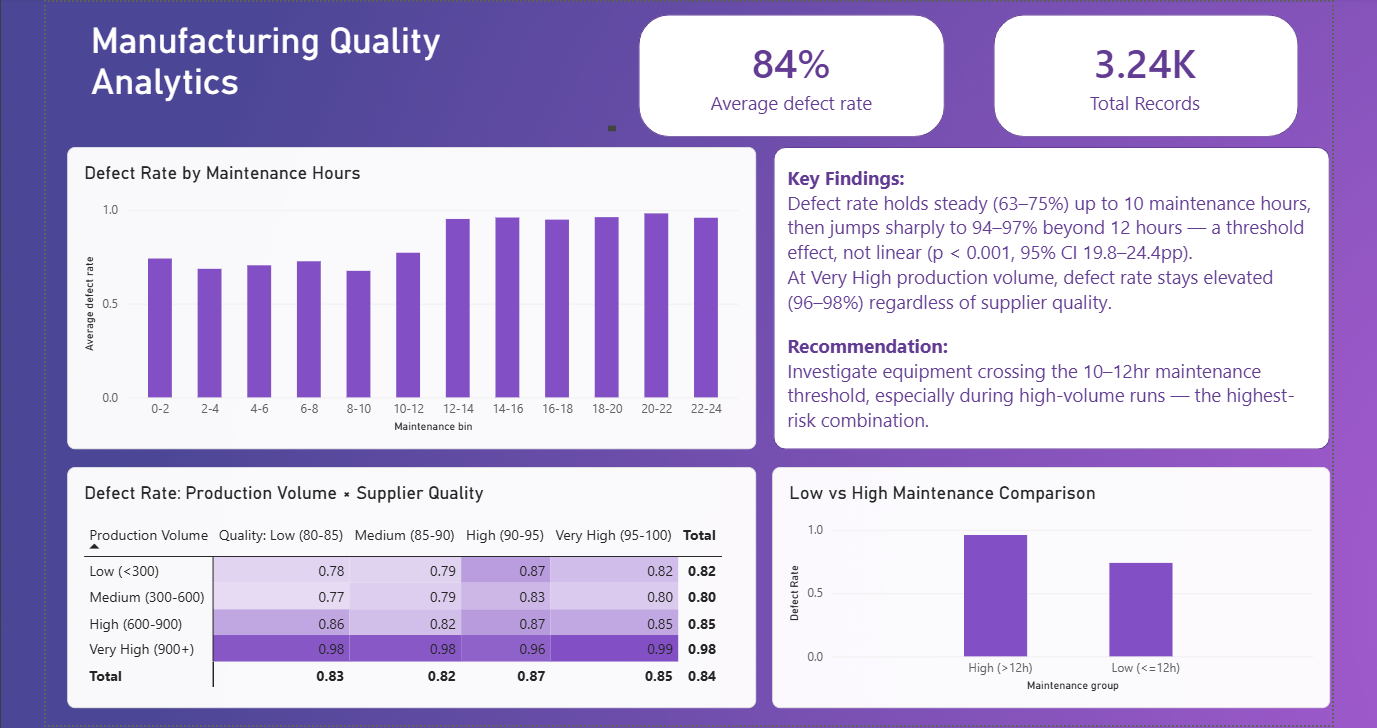

Layout of this report page (visuals, bound fields, positions):
{"tool":"powerbi","page":{"name":"Page 1","canvas":[1280,720],"ordinal":0},"visuals":[{"type":"shape","box":[942.9,12.4,303.5,121.9],"z":1500},{"type":"cardVisual","title":"total records","fields":{"Data":["CountNonNull(manufacturing_defects.DeliveryDelay)"]},"box":[961.6,26.1,265,95.8],"z":2000},{"type":"shape","box":[589.6,12.4,304.8,121.9],"z":2500},{"type":"clusteredColumnChart","title":"Defect Rate by Maintenance Hours","fields":{"Category":["manufacturing_defects.MaintenanceBin"],"Y":["Avg(manufacturing_defects.DefectStatus)"]},"box":[21.1,144.1,685.4,300.8],"z":3000},{"type":"cardVisual","fields":{"Data":["Avg(manufacturing_defects.DefectStatus)"]},"box":[620.7,26.1,242.9,95.4],"z":4000},{"type":"clusteredColumnChart","title":"Low vs High Maintenance Comparison","fields":{"Category":["manufacturing_defects.MaintenanceGroup"],"Y":["Avg(manufacturing_defects.DefectStatus)"]},"box":[722.7,462.8,555.3,240],"z":5000},{"type":"pivotTable","title":"Defect Rate: Production Volume × Supplier Quality","fields":{"Rows":["manufacturing_defects.ProductionVolumeBin"],"Columns":["manufacturing_defects.SupplierQualityBin"],"Values":["Avg(manufacturing_defects.DefectStatus)"]},"box":[21.1,462.8,685.4,240],"z":6000},{"type":"shape","box":[724,144.3,553.6,301],"z":6500},{"type":"textbox","title":"summary","box":[737.7,161.7,523.5,266.1],"z":7000},{"type":"textbox","title":"Manufacturing Quality Analytics","box":[44.8,17.4,522,111.3],"z":8000}]}

Visuals, with their boxes in screenshot pixels (x1, y1, x2, y2):
shape: 990 16 1293 137
"total records" cardVisual: 1009 30 1273 125
shape: 638 16 942 137
"Defect Rate by Maintenance Hours" clusteredColumnChart: 71 147 755 447
cardVisual - Avg(manufacturing_defects.DefectStatus): 669 30 911 125
"Low vs High Maintenance Comparison" clusteredColumnChart: 771 465 1324 704
"Defect Rate: Production Volume × Supplier Quality" pivotTable: 71 465 755 704
shape: 772 147 1324 448
"summary" textbox: 786 165 1308 430
"Manufacturing Quality Analytics" textbox: 95 21 615 132
